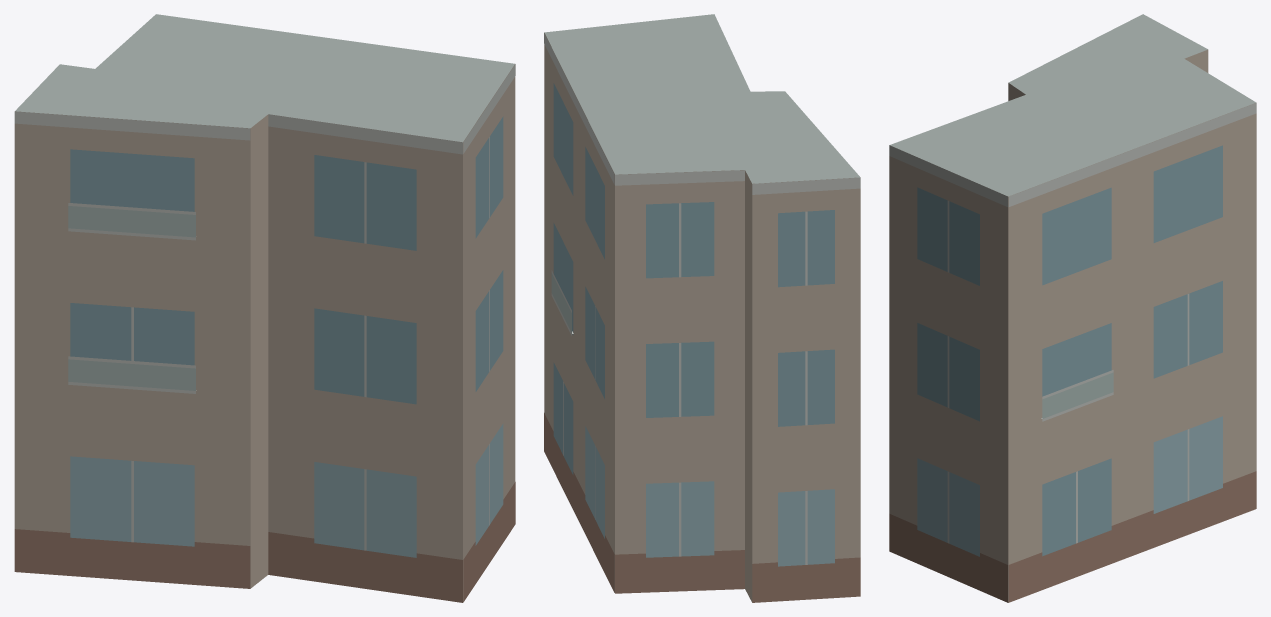
The model's file is survey-upis-32627325.glb.
3 renders of one model, left to right at view 1: azimuth 30°, elevation 25°; view 2: azimuth 150°, elevation 25°; view 3: azimuth 270°, elevation 25°, orthographic. The views are drawn at different scales.
Parts seen in each view (by area): view 1: survey-upis-32627325.tmp; view 2: survey-upis-32627325.tmp; view 3: survey-upis-32627325.tmp.
Boxes of the visible parts, x1,y1,x2,y2 form: survey-upis-32627325.tmp: (14, 14, 515, 602); survey-upis-32627325.tmp: (544, 14, 860, 602); survey-upis-32627325.tmp: (889, 14, 1256, 602).
Bounding box in the file's own units: 8.83 × 9.15 × 7.5.
